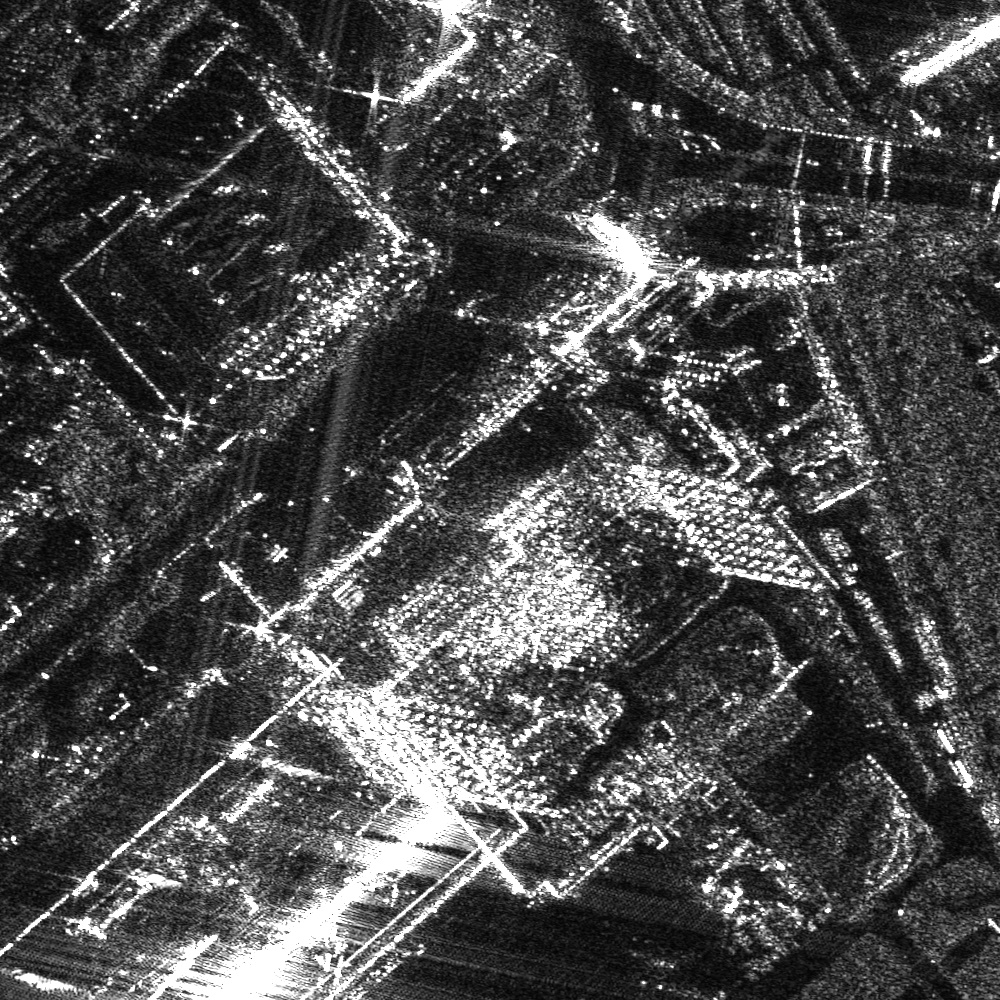Boeing737: (635, 945, 706, 999)
